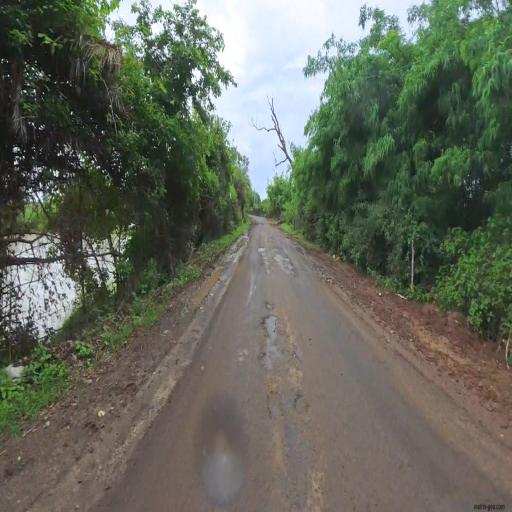pothole: (241, 293, 318, 437)
